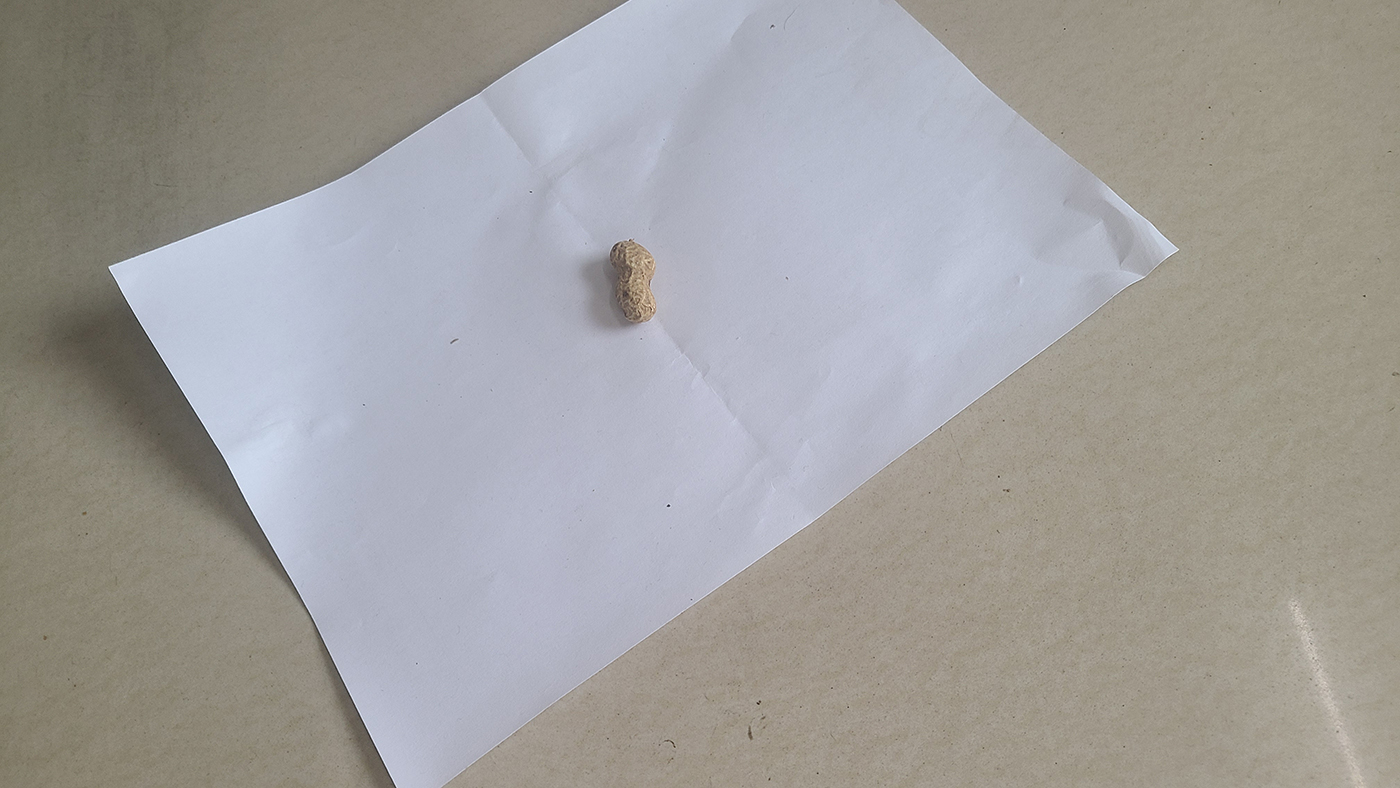h: (610, 240, 657, 323)
